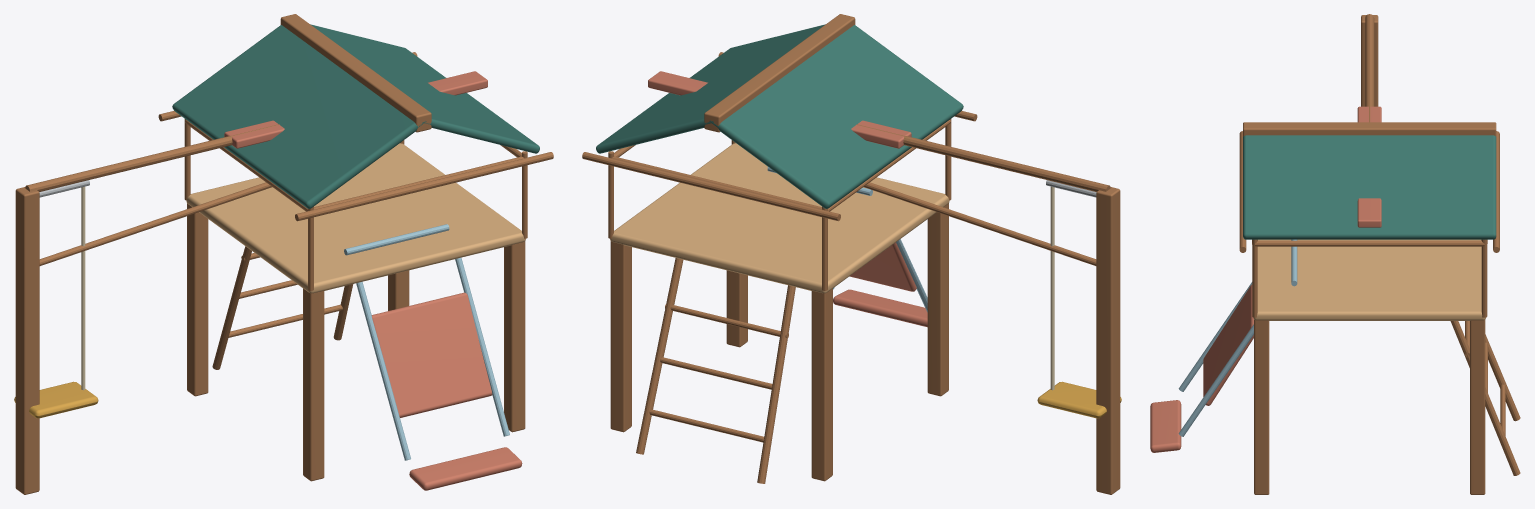
File: climbing_frame_a.glb
3 views of the same model, side by side, from view 1: azimuth 30°, elevation 25°; view 2: azimuth 150°, elevation 25°; view 3: azimuth 270°, elevation 25° (orthographic). The views are drawn at different scales.
Parts seen in each view (by area): view 1: Tower platform, Roof panel, Slide chute.002, Swing post, Roof panel.001, Tint, Tower post.001, Tower post.003, Tower post, Roof ridge, Swing outrigger, Roof beam.001 (+10 smaller); view 2: Tower platform, Roof panel, Swing post, Roof panel.001, Tower post, Tower post.002, Tower post.001, Tint, Roof ridge, Swing outrigger, Roof beam, Swing brace (+10 smaller); view 3: Roof panel.001, Tower platform, Roof ridge, Tower post.002, Tower post.003, Tint, Slide chute.002, Platform rail.002, Ladder rail.003, Swing outrigger, Swing post, Slide rail.005 (+6 smaller).
Part boxes in pixels (x1,y1,x2,y2): Tower platform: (186, 143, 525, 293); Roof panel: (172, 25, 426, 208); Slide chute.002: (371, 292, 492, 417); Swing post: (15, 187, 39, 494); Roof panel.001: (310, 24, 539, 153); Tint: (224, 71, 522, 490); Tower post.001: (303, 288, 324, 481); Tower post.003: (504, 241, 525, 432); Tower post: (187, 203, 208, 396); Roof ridge: (280, 14, 431, 132); Swing outrigger: (25, 124, 279, 191); Roof beam.001: (295, 152, 553, 221); Tower platform: (610, 143, 949, 293); Roof panel: (709, 25, 963, 208); Swing post: (1096, 187, 1120, 494); Roof panel.001: (596, 24, 825, 153); Tower post: (811, 288, 832, 481); Tower post.002: (610, 241, 631, 432); Tower post.001: (927, 203, 948, 396); Tint: (648, 71, 927, 327); Roof ridge: (704, 14, 855, 132); Swing outrigger: (856, 124, 1110, 191); Roof beam: (582, 152, 840, 221); Swing brace: (864, 182, 1096, 265); Roof panel.001: (1243, 135, 1496, 239); Tower platform: (1253, 239, 1485, 320); Roof ridge: (1243, 122, 1496, 136); Tower post.002: (1470, 320, 1485, 494); Tower post.003: (1254, 320, 1269, 494); Tint: (1150, 106, 1381, 452); Slide chute.002: (1203, 284, 1253, 405); Platform rail.002: (1255, 240, 1484, 246); Ladder rail.003: (1450, 321, 1520, 475); Swing outrigger: (1365, 14, 1374, 122); Swing post: (1361, 15, 1378, 106); Slide rail.005: (1178, 324, 1253, 436).
Bounding box in the file's own units: 2.91 × 2.08 × 2.16.
